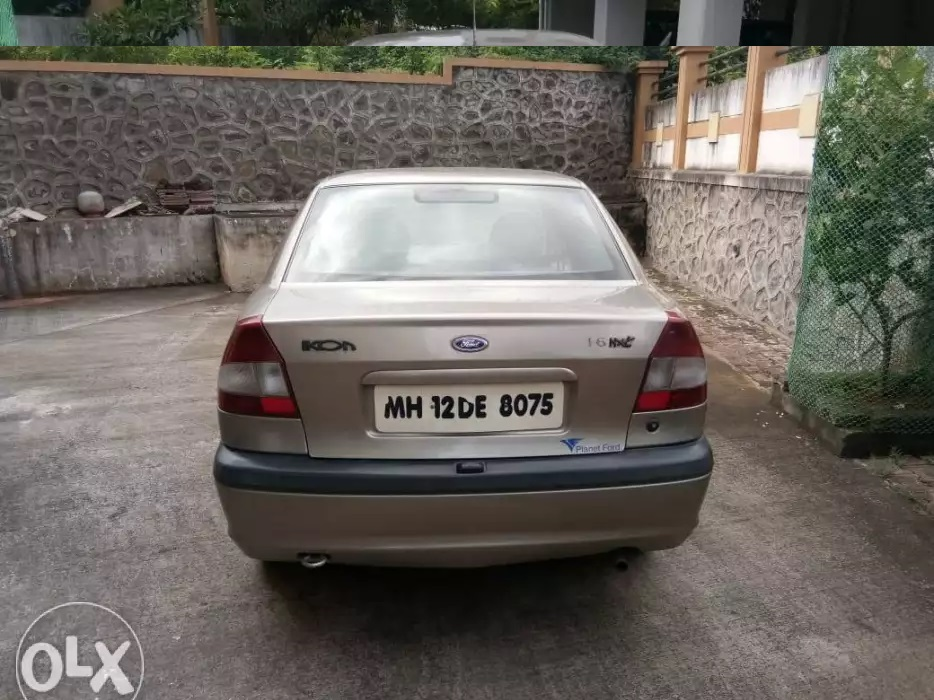licenseplate: (373, 381, 572, 434)
